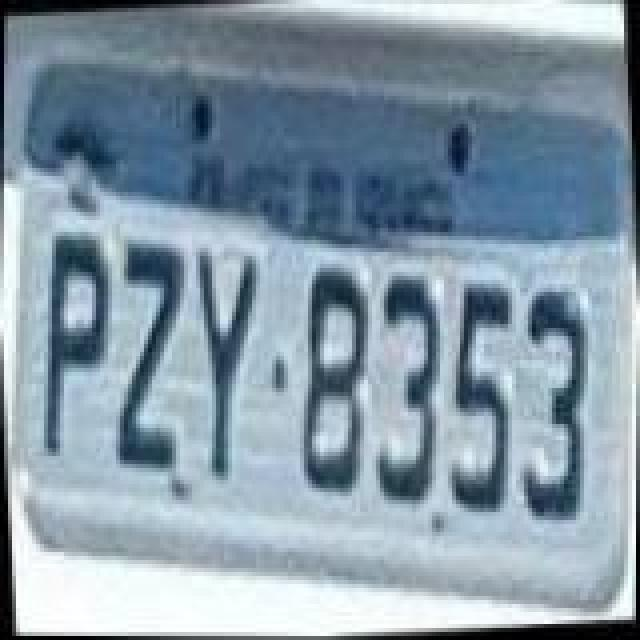3: (506, 284, 602, 532), (358, 262, 454, 506)
5: (430, 274, 526, 518)
8: (284, 260, 384, 496)
P: (28, 226, 124, 462)
Y: (188, 244, 276, 484)
Z: (100, 234, 204, 482)
